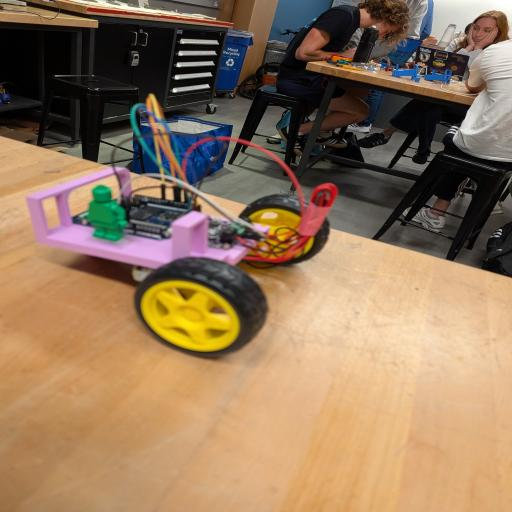Minifig: (85, 185, 128, 241)
